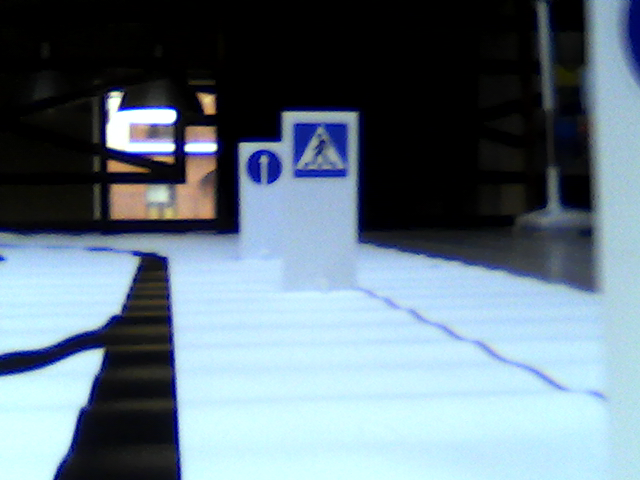forw: (245, 151, 282, 186)
pesh: (293, 122, 352, 180)
